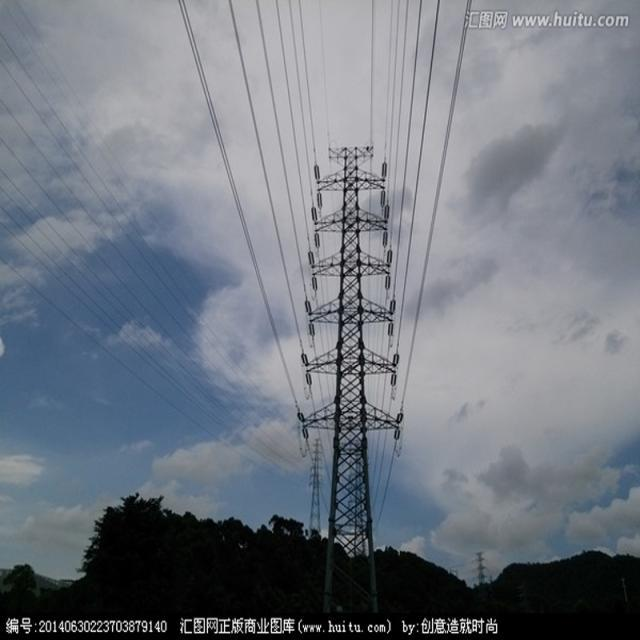non-critical vegetation: (270, 126, 410, 610)
